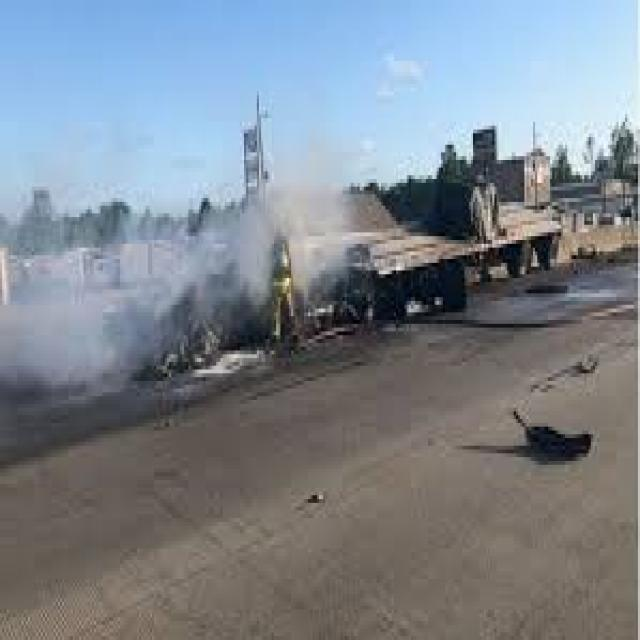smoke: (2, 179, 347, 404)
